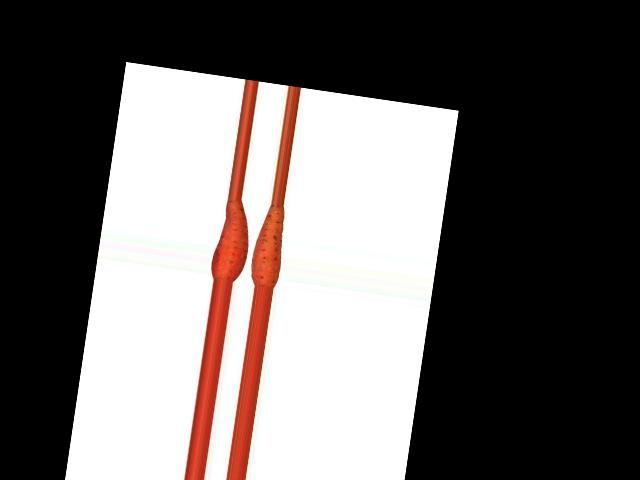sweet_potato: (248, 204, 288, 289)
